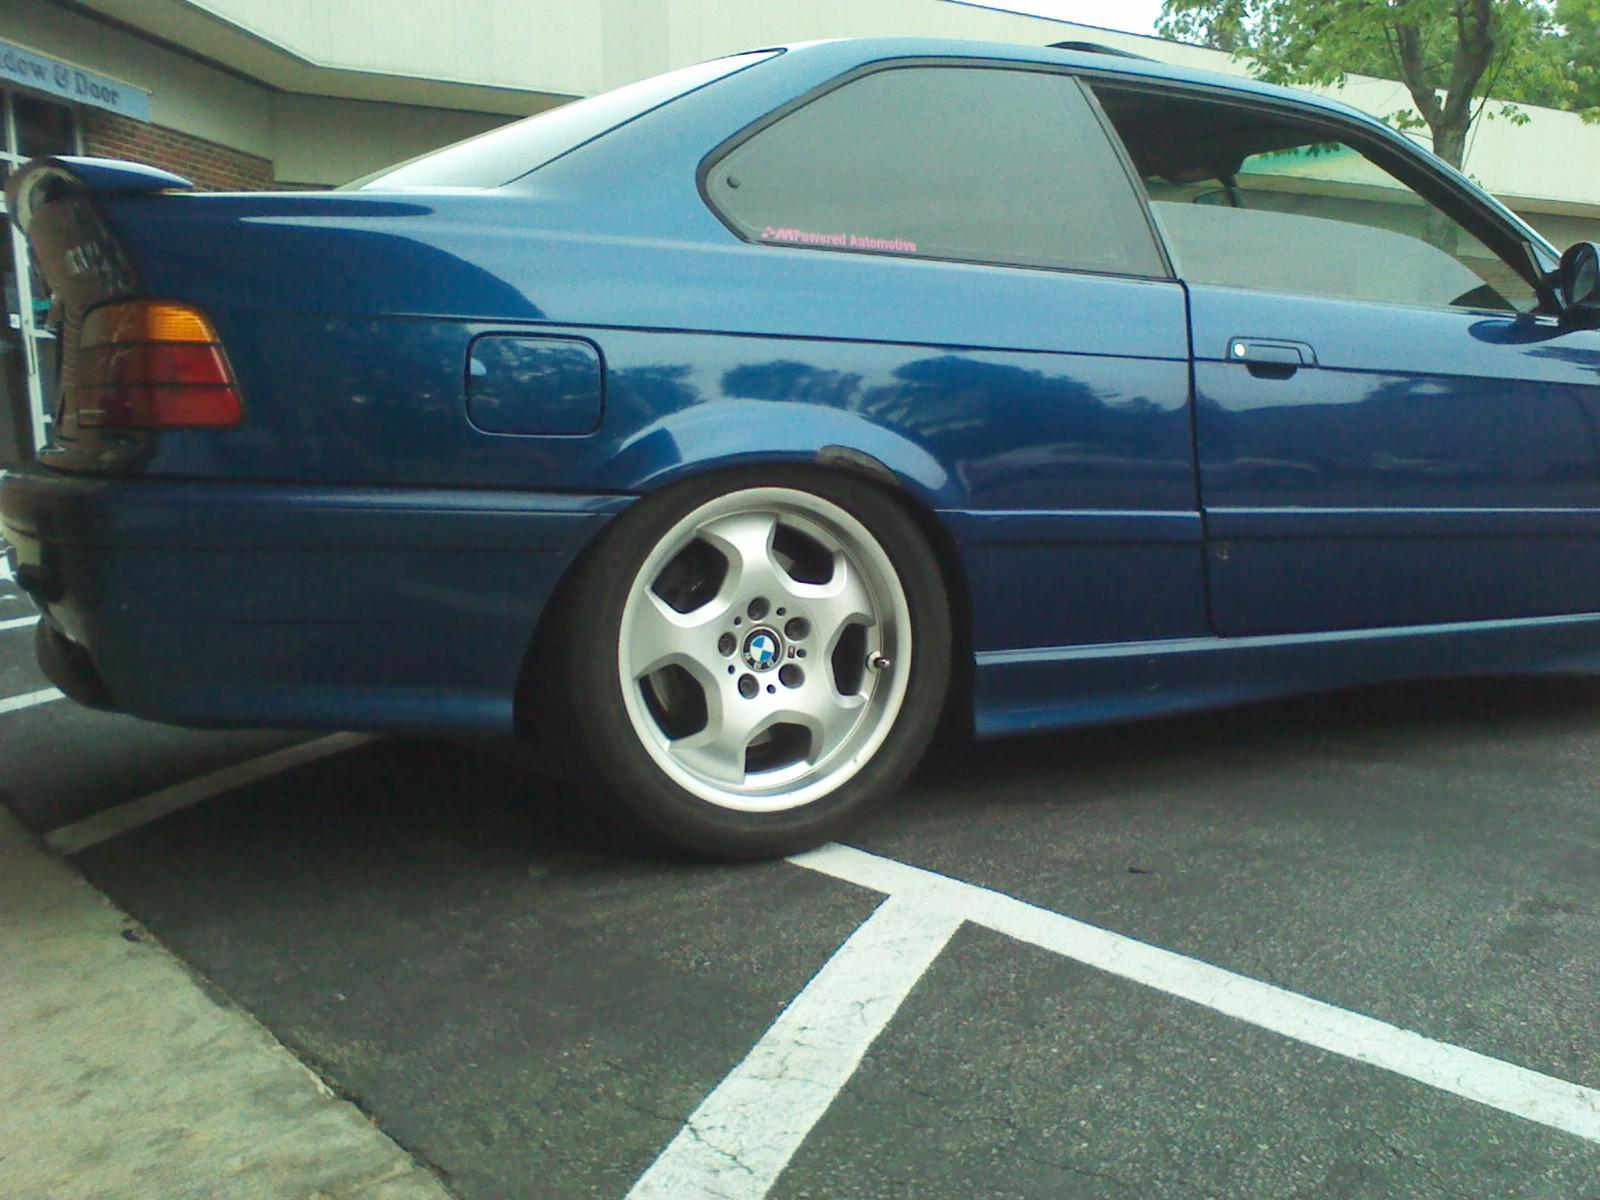quaterpanel-dent: (625, 267, 1080, 511)
